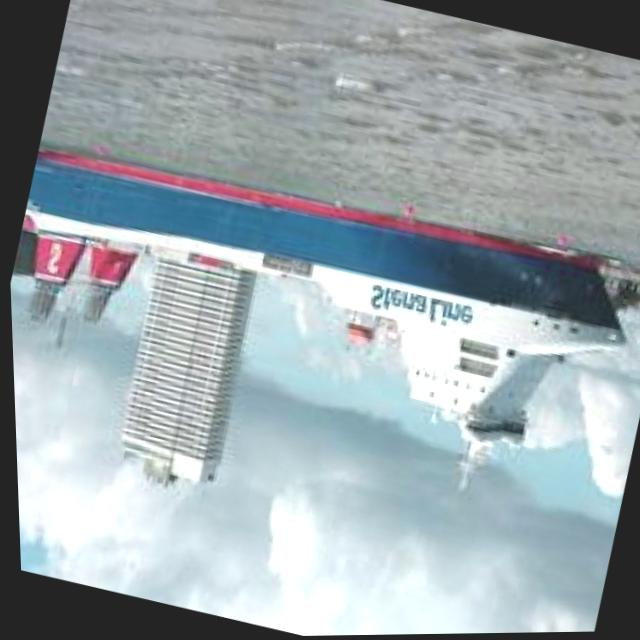ship2: (10, 146, 625, 488)
